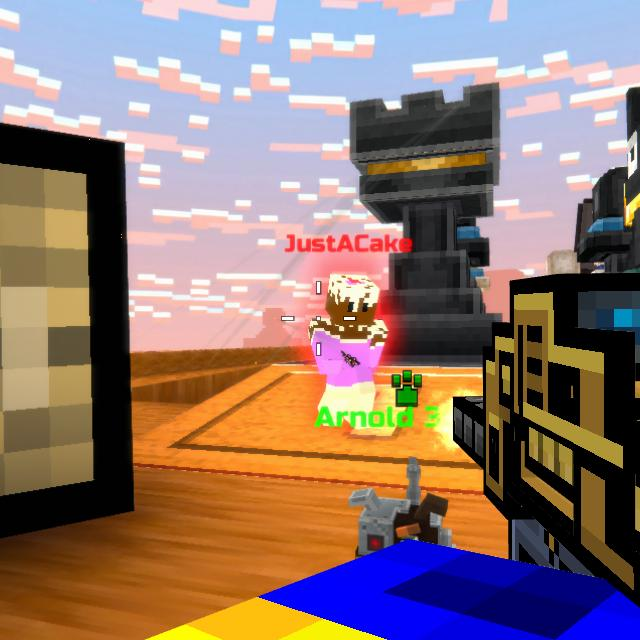Enemy: (308, 274, 389, 425)
